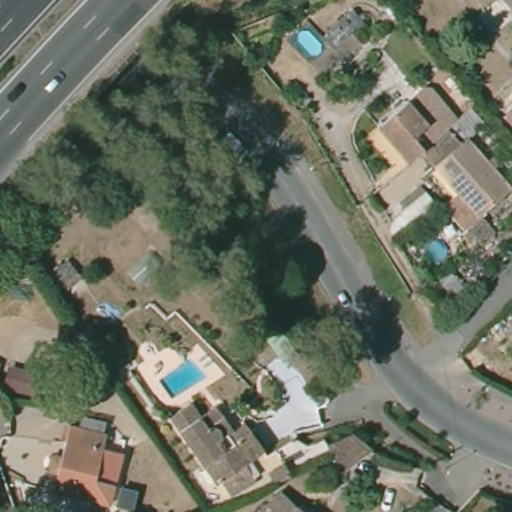pool: (157, 360, 206, 393), (294, 26, 331, 59), (423, 233, 452, 267)
